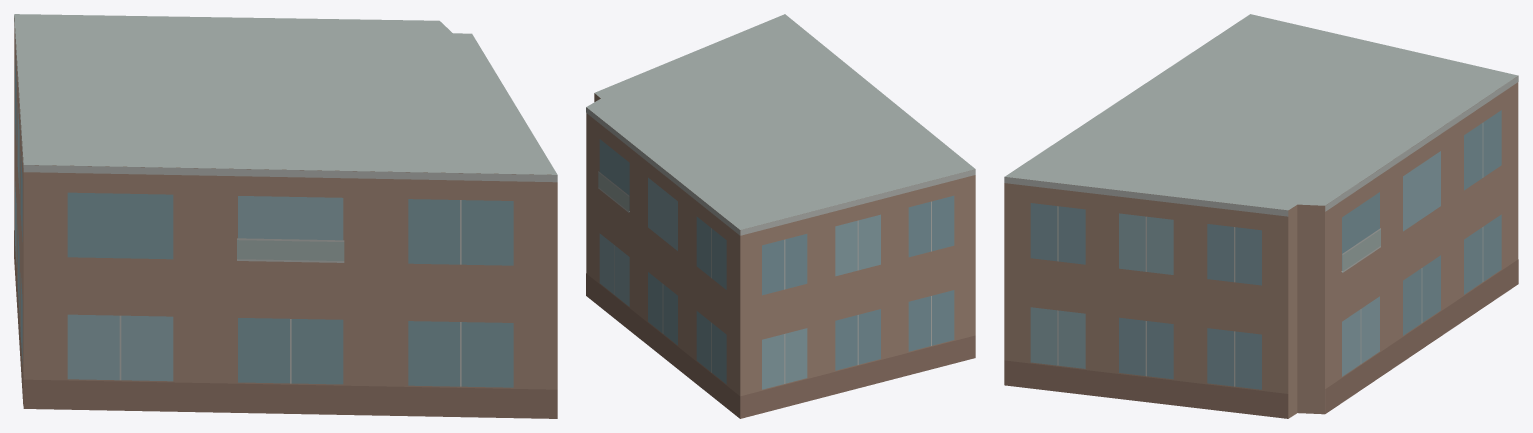
File: survey-upis-32466654.glb
The picture shows the model from 3 angles, left to right: view 1: azimuth 30°, elevation 25°; view 2: azimuth 150°, elevation 25°; view 3: azimuth 270°, elevation 25°; orthographic projection. The views are drawn at different scales.
Parts seen in each view (by area): view 1: survey-upis-32466654.tmp; view 2: survey-upis-32466654.tmp; view 3: survey-upis-32466654.tmp.
Part boxes in pixels (x1,y1,x2,y2): survey-upis-32466654.tmp: [14, 14, 557, 418]; survey-upis-32466654.tmp: [586, 14, 975, 418]; survey-upis-32466654.tmp: [1004, 14, 1518, 418].
Bounding box in the file's own units: 16.37 × 8.1 × 18.11.
